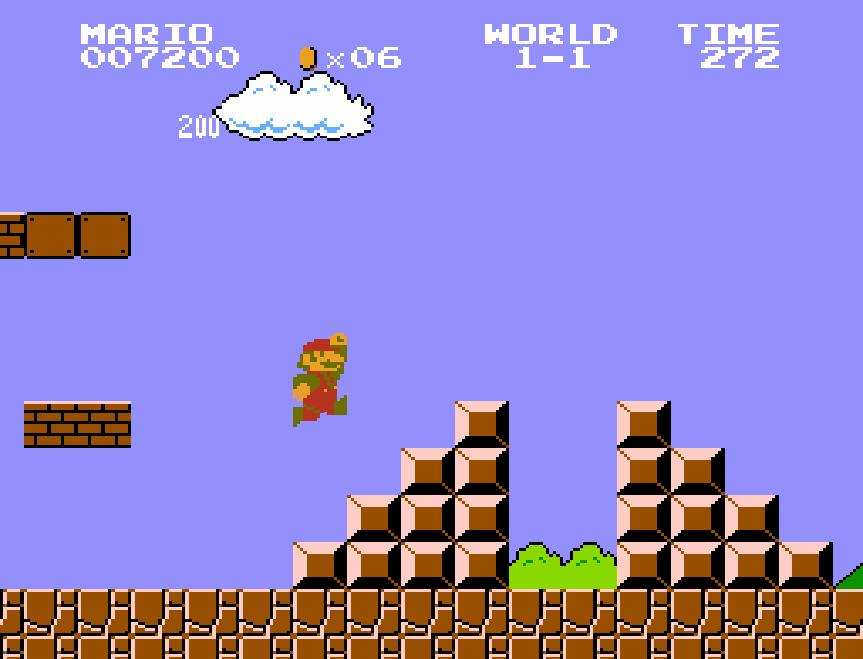big_mario: (291, 330, 349, 429)
